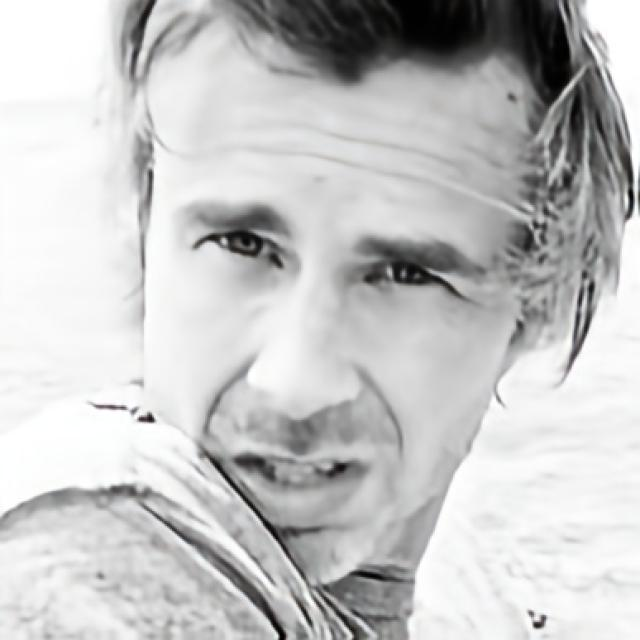disgust: (146, 1, 539, 588)
